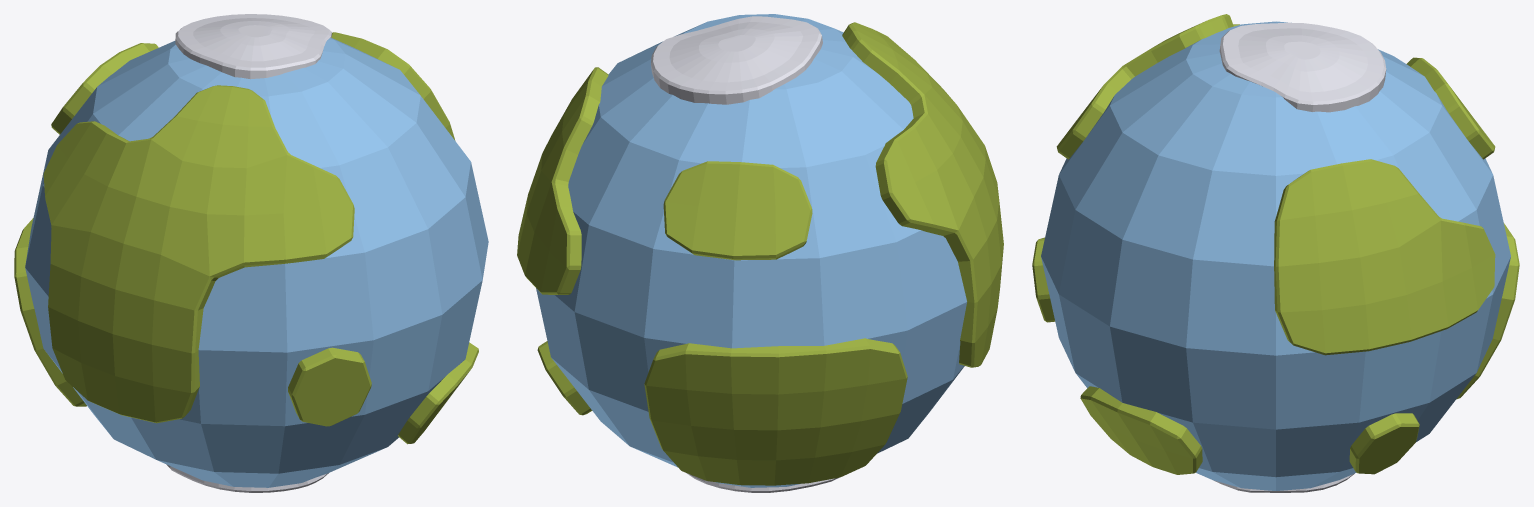
The model's file is Globe.fbx.
The picture shows the model from 3 angles, left to right: view 1: azimuth 30°, elevation 25°; view 2: azimuth 150°, elevation 25°; view 3: azimuth 270°, elevation 25°; orthographic projection.
Visible parts, largest first — view 1: water, land; view 2: water, land; view 3: water, land.
Part boxes in pixels (x1,y1,x2,y2): water: (25,38,488,487); land: (14,14,478,492); water: (536,14,966,487); land: (517,16,1003,492); water: (1041,21,1510,490); land: (1032,14,1519,492).
Bounding box in the file's own units: 842 × 815 × 842.
